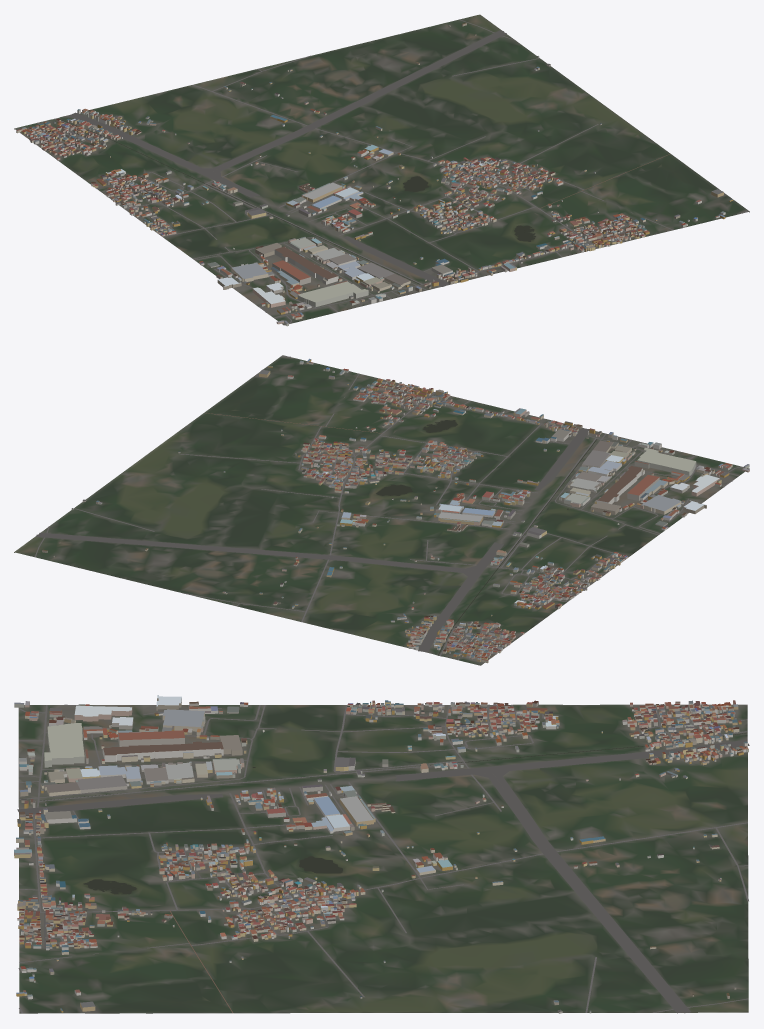
3 renders of one model, top to bottom at view 1: azimuth 30°, elevation 25°; view 2: azimuth 150°, elevation 25°; view 3: azimuth 270°, elevation 25°, orthographic. The views are drawn at different scales.
Parts seen in each view (by area): view 1: ground, buildings, roads, water; view 2: ground, buildings, roads, water; view 3: ground, buildings, roads, water.
Part boxes in pixels (x1,y1,x2,y2): ground: (14, 14, 749, 325); buildings: (16, 22, 733, 326); roads: (36, 19, 748, 323); water: (57, 118, 535, 284); ground: (14, 355, 749, 665); buildings: (42, 358, 749, 663); roads: (35, 355, 743, 660); water: (376, 420, 596, 655); ground: (18, 704, 748, 1013); buildings: (14, 695, 748, 1013); roads: (17, 704, 749, 1013); water: (40, 733, 747, 894).
Size of the model in its own units: 1429 by 19.5 by 1415.
